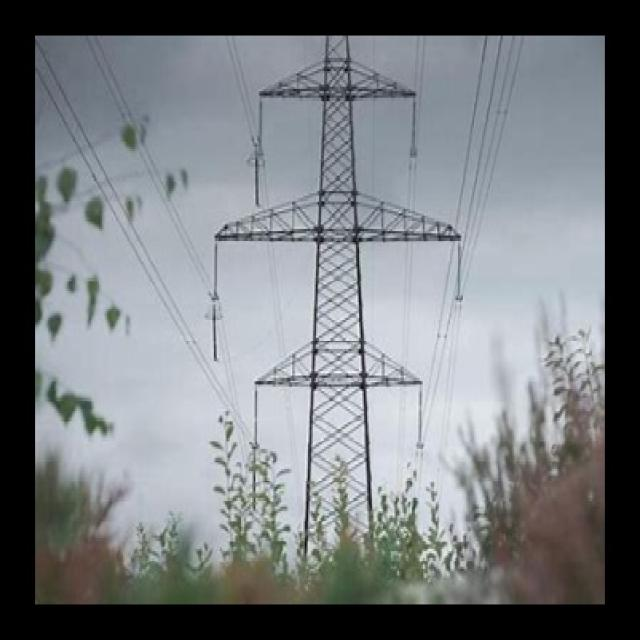utility poles: (195, 373, 485, 602)
